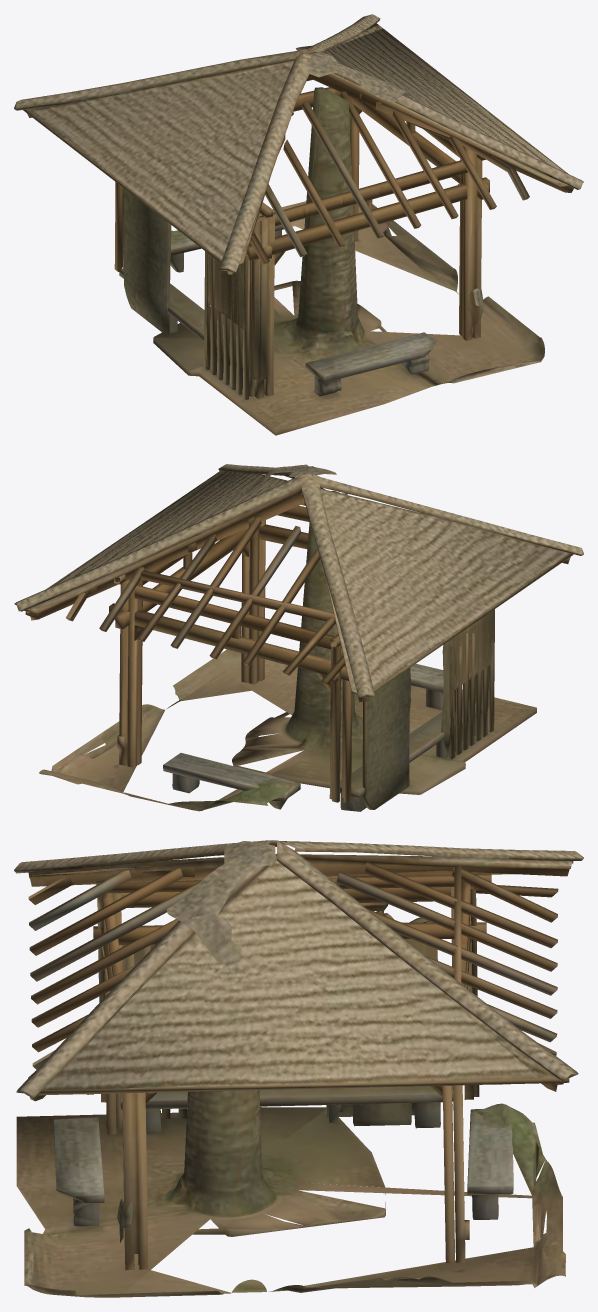
File: tropicalgazebo.lite.glb
3 views of the same model, one above another, from view 1: azimuth 30°, elevation 25°; view 2: azimuth 150°, elevation 25°; view 3: azimuth 270°, elevation 25° (orthographic). The views are drawn at different scales.
Parts seen in each view (by area): view 1: model; view 2: model; view 3: model.
Boxes of the visible parts, x1,y1,x2,y2 form: model: [14, 14, 583, 435]; model: [14, 464, 583, 811]; model: [14, 840, 583, 1297].
Bounding box in the file's own units: 0.9653 × 0.7104 × 0.9995.
1 material, 1 textured.
